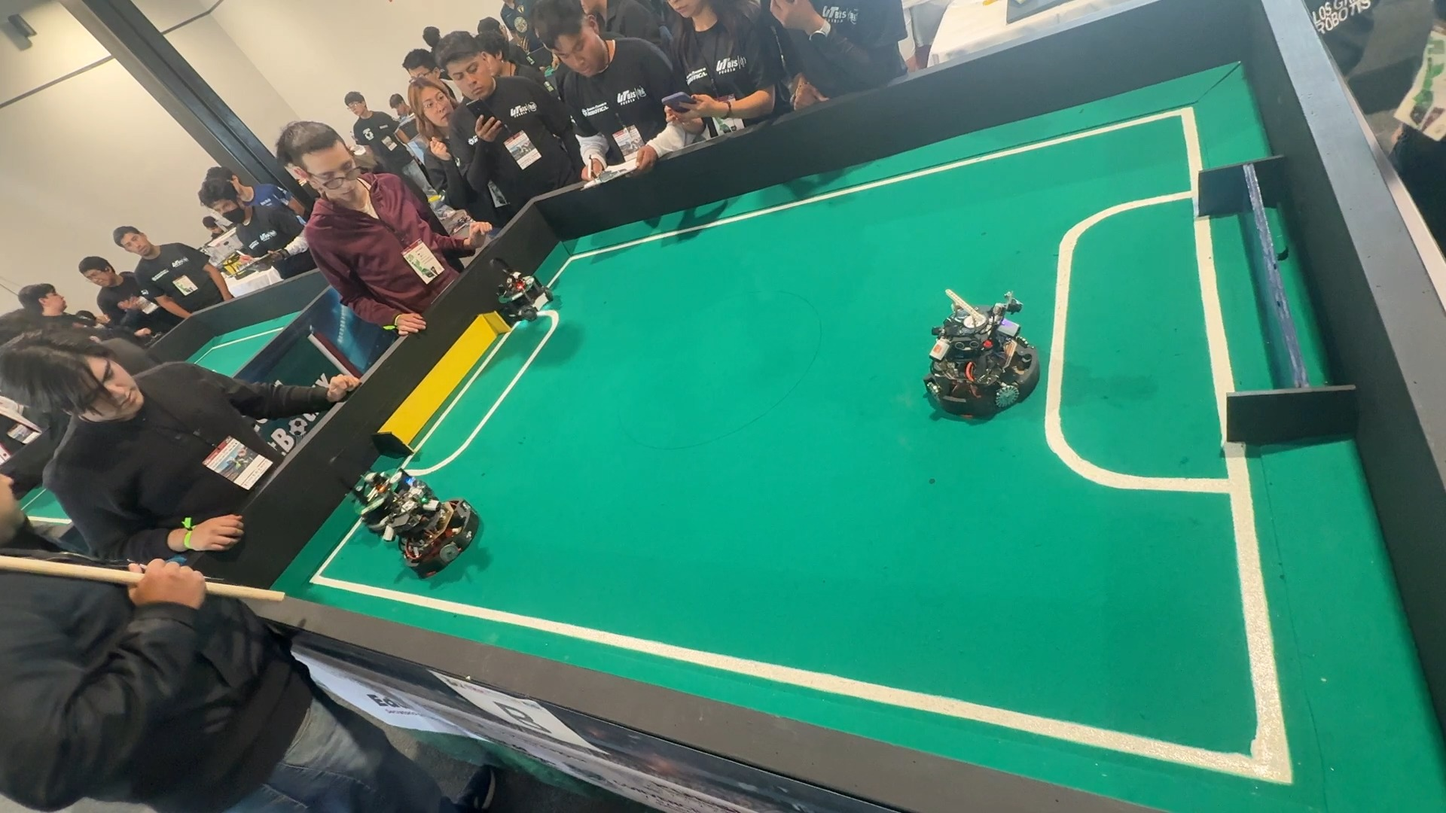Robot: (909, 294, 1049, 418), (393, 485, 474, 570), (487, 263, 555, 329), (339, 467, 414, 524)
